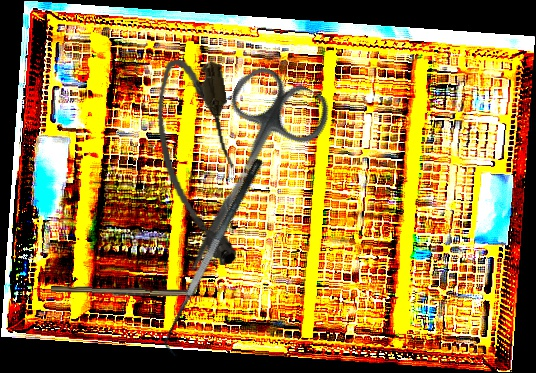Cannula: (149, 54, 250, 271)
Iris Scissors: (152, 58, 337, 296)
Scalpel Handle: (50, 285, 192, 299)
Spatula Surgical: (151, 156, 280, 357)
